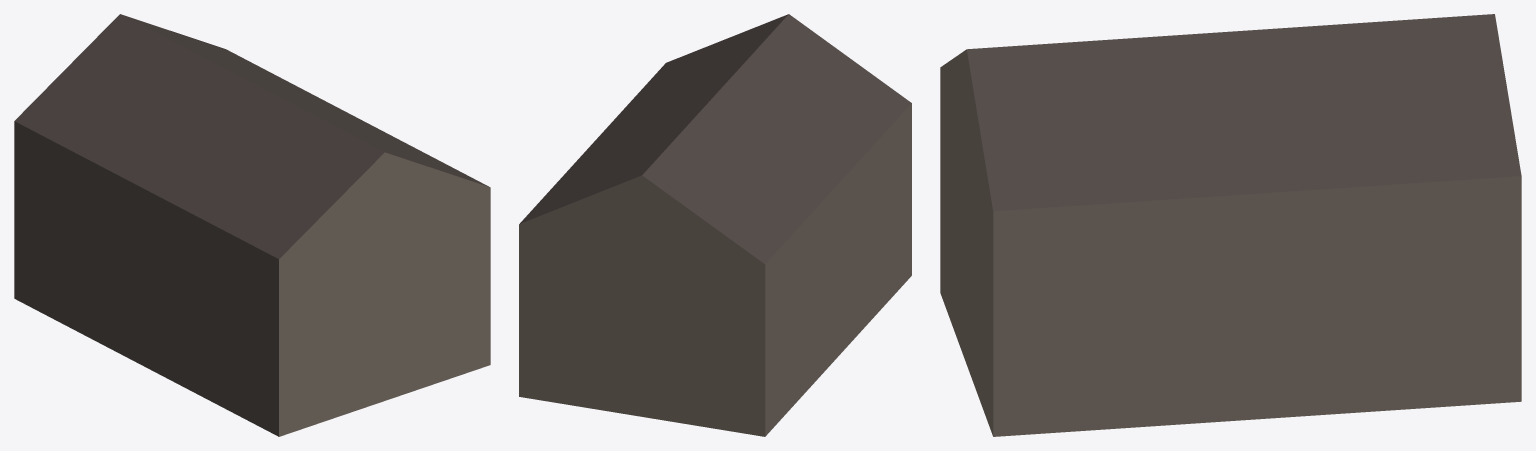
3 views of the same model, side by side, from view 1: azimuth 30°, elevation 25°; view 2: azimuth 150°, elevation 25°; view 3: azimuth 270°, elevation 25° (orthographic). The views are drawn at different scales.
Parts seen in each view (by area): view 1: HP-w1365659941; view 2: HP-w1365659941; view 3: HP-w1365659941.
Boxes of the visible parts, bbox=[...] form: HP-w1365659941: bbox=[14, 14, 490, 436]; HP-w1365659941: bbox=[519, 14, 911, 436]; HP-w1365659941: bbox=[940, 14, 1521, 436].
Bounding box in the file's own units: 10.22 × 8.4 × 14.01.
